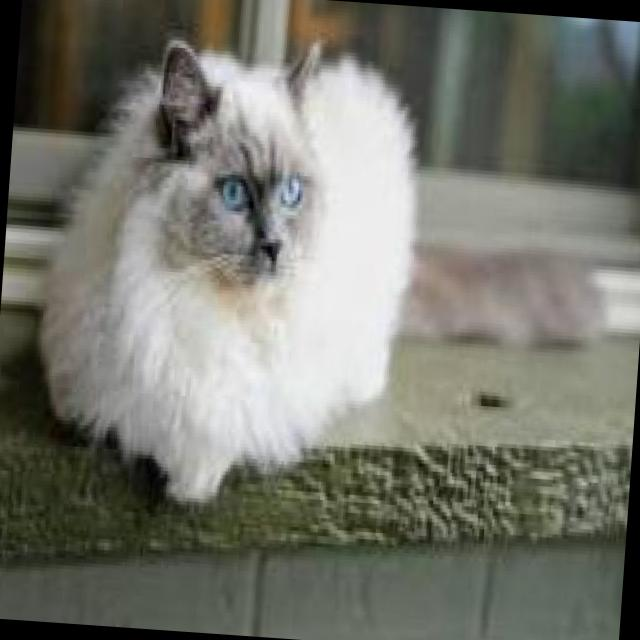Gato: (26, 14, 438, 526)
